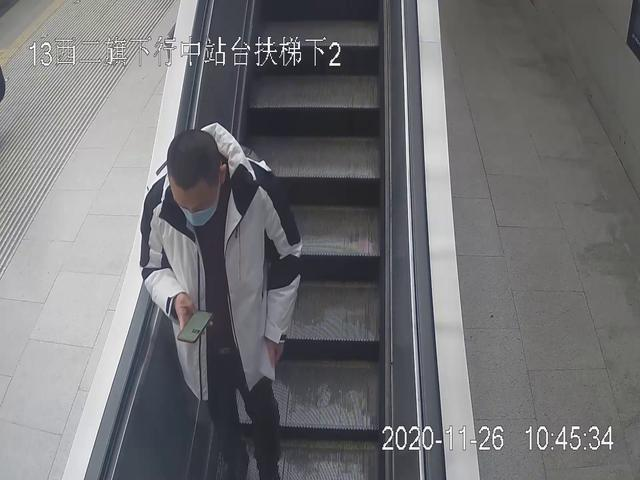person: (139, 121, 301, 480)
